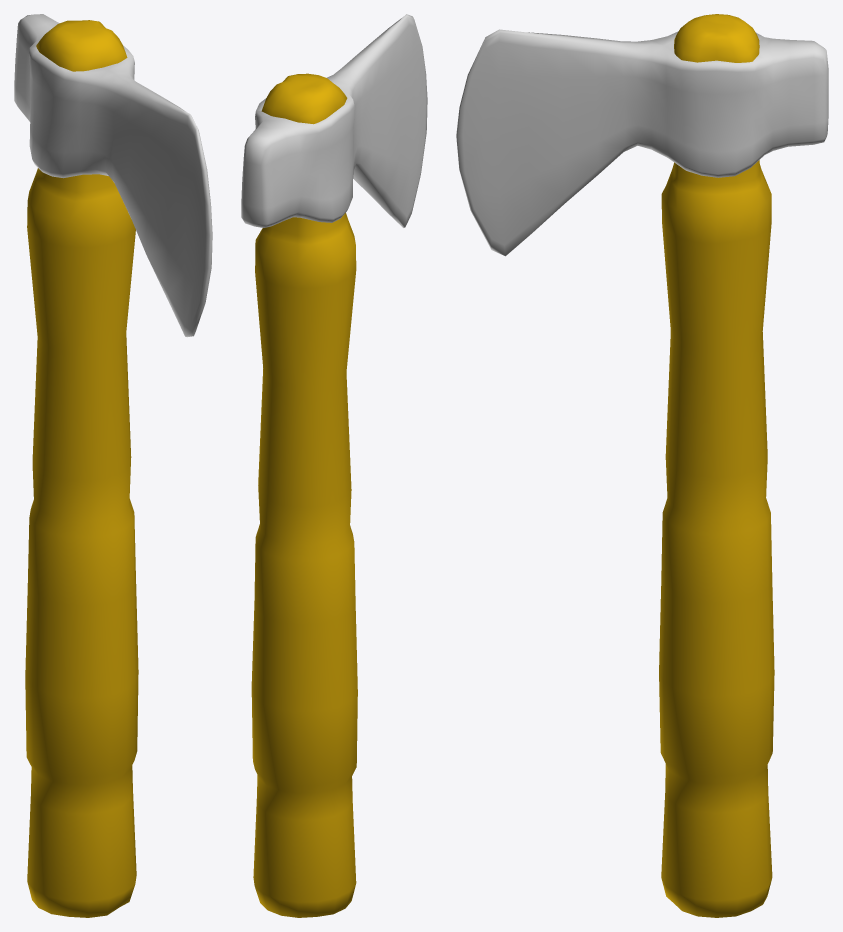
File: MetalAxe.fbx
3 views of the same model, side by side, from view 1: azimuth 30°, elevation 25°; view 2: azimuth 150°, elevation 25°; view 3: azimuth 270°, elevation 25° (orthographic). The views are drawn at different scales.
Parts seen in each view (by area): view 1: MetalAxe; view 2: MetalAxe; view 3: MetalAxe.
Boxes of the visible parts, box(x1,y1,x2,y2) form: MetalAxe: box(14, 14, 212, 917); MetalAxe: box(241, 14, 427, 917); MetalAxe: box(456, 14, 828, 917).
Size of the model in its own units: 0.0761 by 0.6456 by 0.2469.
